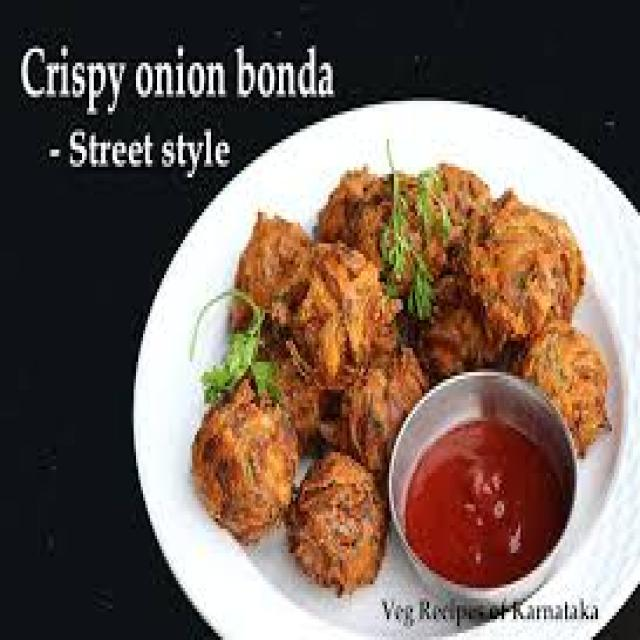BAJI: (464, 207, 582, 349), (271, 255, 388, 386), (352, 181, 473, 304), (195, 393, 297, 537), (202, 399, 296, 545), (287, 456, 380, 583), (344, 353, 425, 480), (529, 337, 601, 449), (238, 211, 292, 328)
